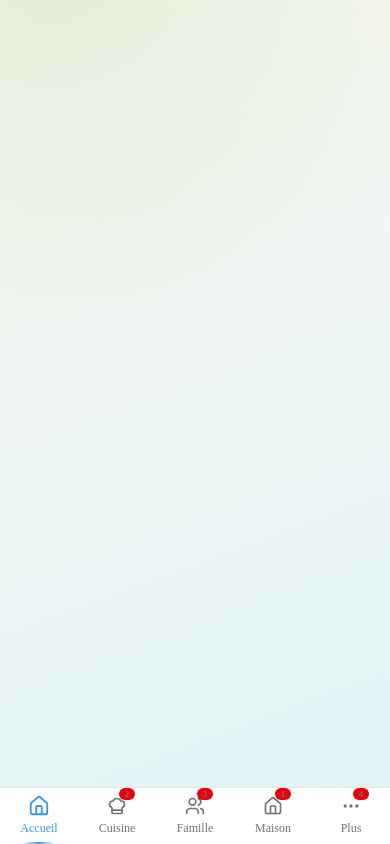
Test: NavMobile › affiche des indicateurs de badge sur les modules principaux et le drawer plus
expect the text "2" is shown: met, box [119,788,135,800]
expect the text "3" is shown: met, box [197,788,213,800]
What coordinates should you click on to do the following:
click the button with aria-label "plus de sections"
I would click on:
 (351, 816)
Its box is [312,788,389,843].
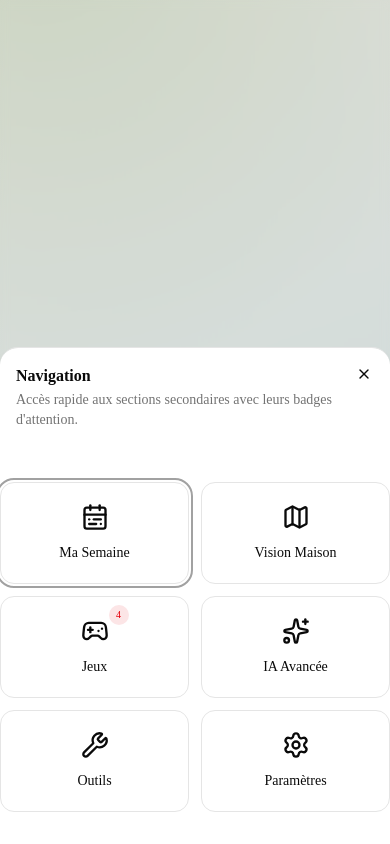
expect the button "4 Jeux" is shown: met, box [0,596,189,698]
